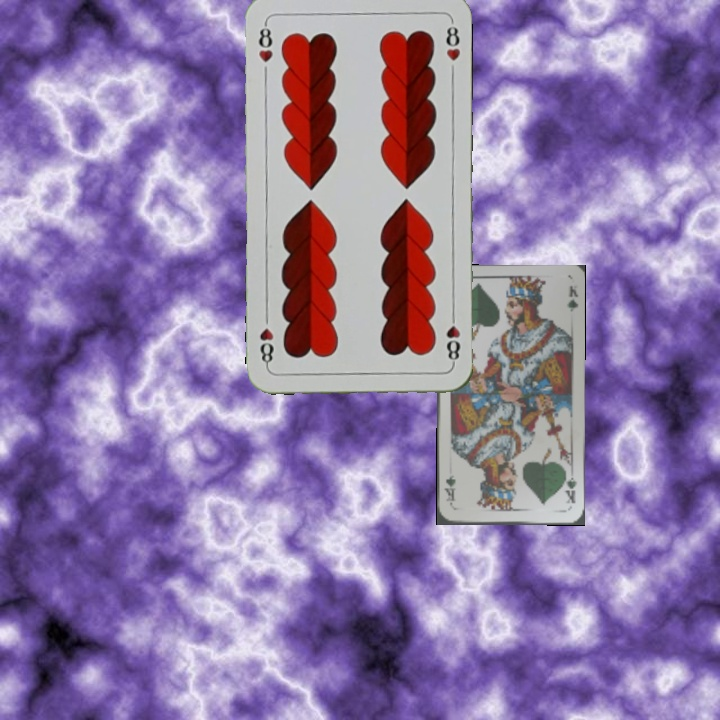GK: (561, 468, 580, 506)
H8: (442, 308, 462, 367), (255, 19, 276, 65)
